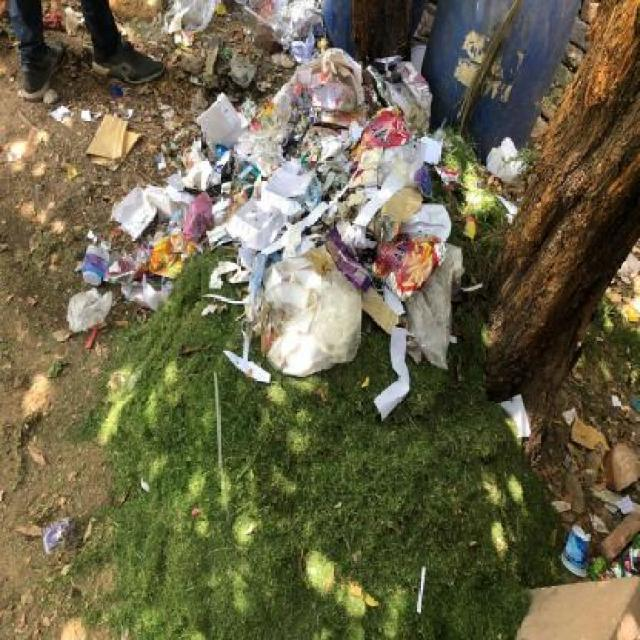garbage: (162, 2, 524, 236), (173, 236, 482, 427), (503, 406, 640, 582), (68, 183, 174, 334), (42, 513, 75, 573), (618, 245, 636, 345)
